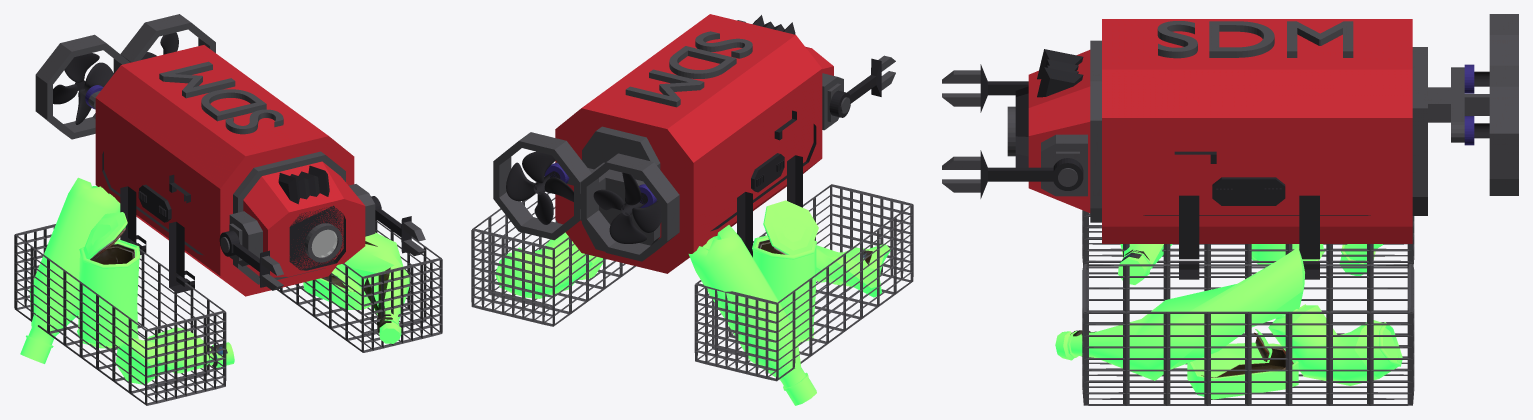
File: collector_manual_with_both.glb
3 views of the same model, side by side, from view 1: azimuth 30°, elevation 25°; view 2: azimuth 150°, elevation 25°; view 3: azimuth 270°, elevation 25° (orthographic). The views are drawn at different scales.
Parts seen in each view (by area): view 1: main_body, Can_02_GEO.003, Can_02_GEO, Plastic_Bottle_01_GEO, camera_lens; view 2: main_body, Can_02_GEO.003; view 3: main_body, Can_02_GEO.003, Can_02_GEO.
Boxes of the visible parts, left/top/right/bottom form: main_body: left=14, top=14, right=442, bottom=405; Can_02_GEO.003: left=20, top=177, right=409, bottom=384; Can_02_GEO: left=90, top=227, right=354, bottom=291; Plastic_Bottle_01_GEO: left=210, top=241, right=392, bottom=367; camera_lens: left=311, top=229, right=337, bottom=257; main_body: left=471, top=14, right=913, bottom=381; Can_02_GEO.003: left=495, top=200, right=890, bottom=405; main_body: left=942, top=14, right=1518, bottom=405; Can_02_GEO.003: left=1055, top=244, right=1402, bottom=399; Can_02_GEO: left=1201, top=332, right=1293, bottom=377.
Bounding box in the file's own units: 4.28 × 3.45 × 5.53.
Materials: 5 (5 with a texture image).
